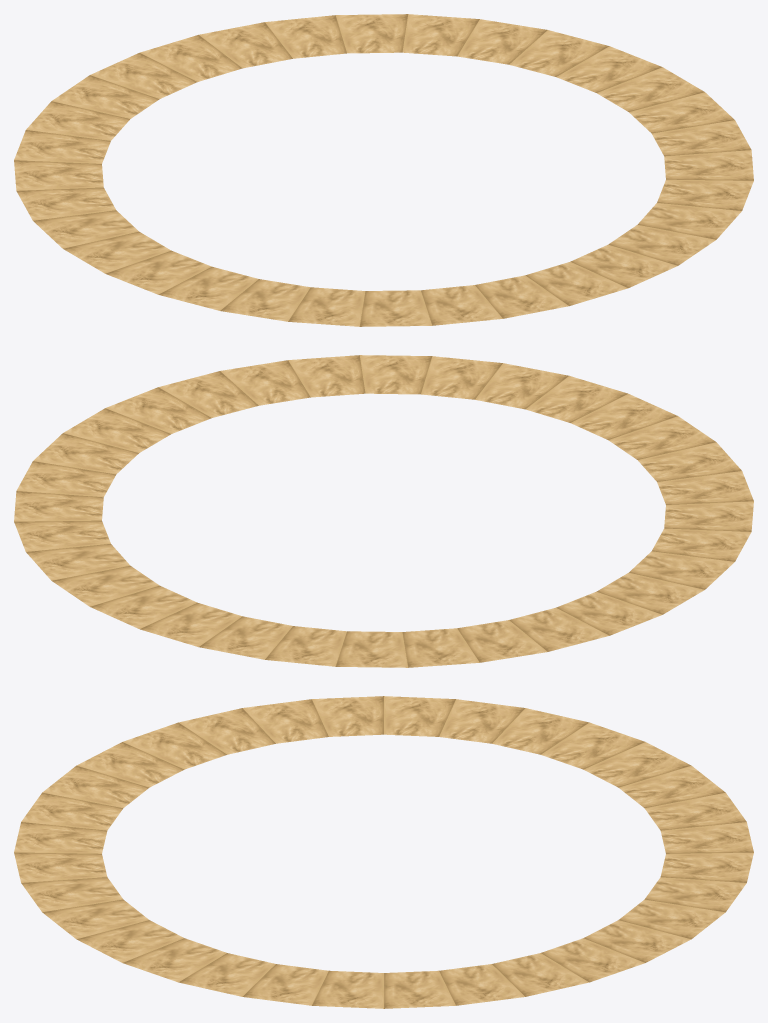
Rendered from SaturnRing.obj.
The picture shows the model from 3 angles, top to bottom: view 1: azimuth 30°, elevation 25°; view 2: azimuth 150°, elevation 25°; view 3: azimuth 270°, elevation 25°; orthographic projection.
Visible parts, largest first — view 1: Cylinder; view 2: Cylinder; view 3: Cylinder.
Part boxes in pixels (box(x1,y1,x2,y2)): Cylinder: box(14, 14, 753, 326); Cylinder: box(14, 355, 753, 667); Cylinder: box(14, 696, 753, 1008).
Size of the model in its own units: 3.71 by 0.0077 by 3.71.
